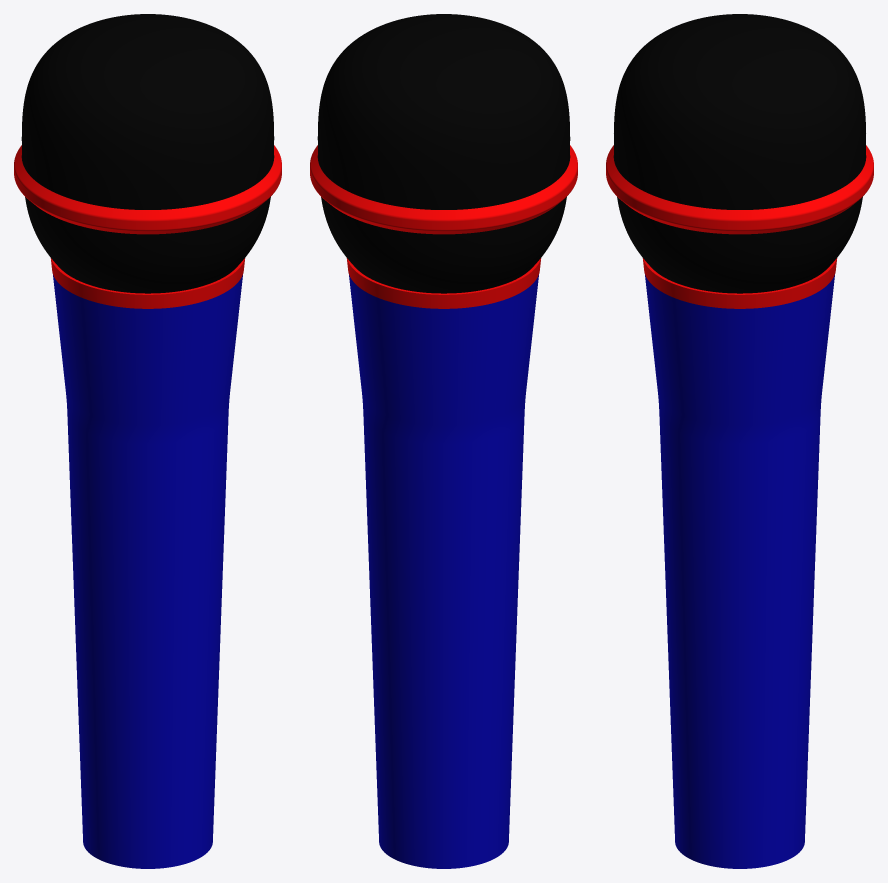
Rendered from Microphine.FBX.
3 views of the same model, side by side, from view 1: azimuth 30°, elevation 25°; view 2: azimuth 150°, elevation 25°; view 3: azimuth 270°, elevation 25° (orthographic).
Parts seen in each view (by area): view 1: Fillet2; view 2: Fillet2; view 3: Fillet2.
Boxes of the visible parts, <box> form: Fillet2: <box>14,14,281,868</box>; Fillet2: <box>310,14,577,868</box>; Fillet2: <box>606,14,873,868</box>.
Size of the model in its own units: 3.25 by 10.81 by 3.25.
